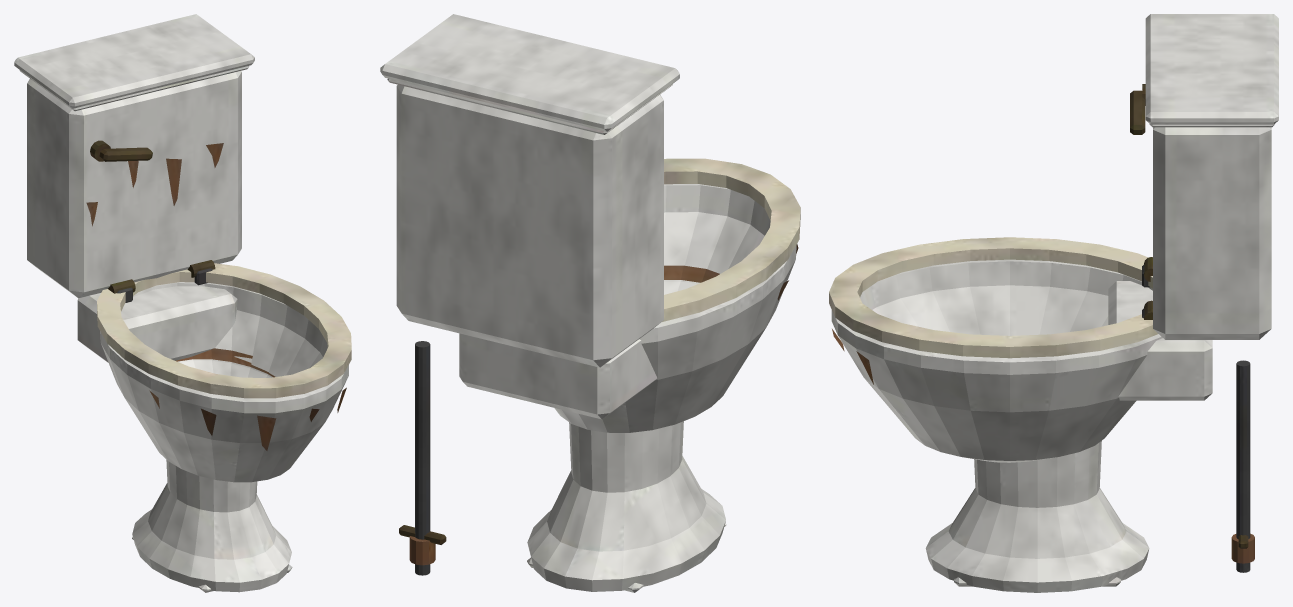
File: B16_toilet_v1.glb
The picture shows the model from 3 angles, left to right: view 1: azimuth 30°, elevation 25°; view 2: azimuth 150°, elevation 25°; view 3: azimuth 270°, elevation 25°; orthographic projection. The views are drawn at different scales.
Parts seen in each view (by area): view 1: Hollow vitreous bowl; view 2: Hollow vitreous bowl; view 3: Hollow vitreous bowl.
Boxes of the visible parts, box(x1,y1,x2,y2) form: Hollow vitreous bowl: box(14, 14, 351, 592); Hollow vitreous bowl: box(380, 14, 800, 592); Hollow vitreous bowl: box(829, 14, 1278, 592).
Bounding box in the file's own units: 0.376 × 0.8 × 0.6515.
Materials: 6 (6 with a texture image).
